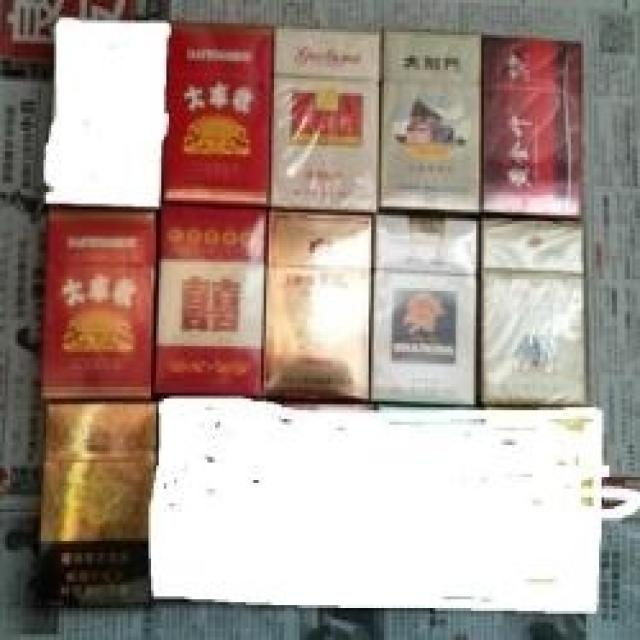box: (38, 401, 156, 608), (38, 207, 159, 401), (151, 204, 269, 401), (261, 207, 376, 401), (161, 20, 274, 207), (374, 212, 481, 407), (269, 26, 381, 212), (479, 218, 586, 407), (481, 32, 584, 224), (376, 32, 481, 215)
